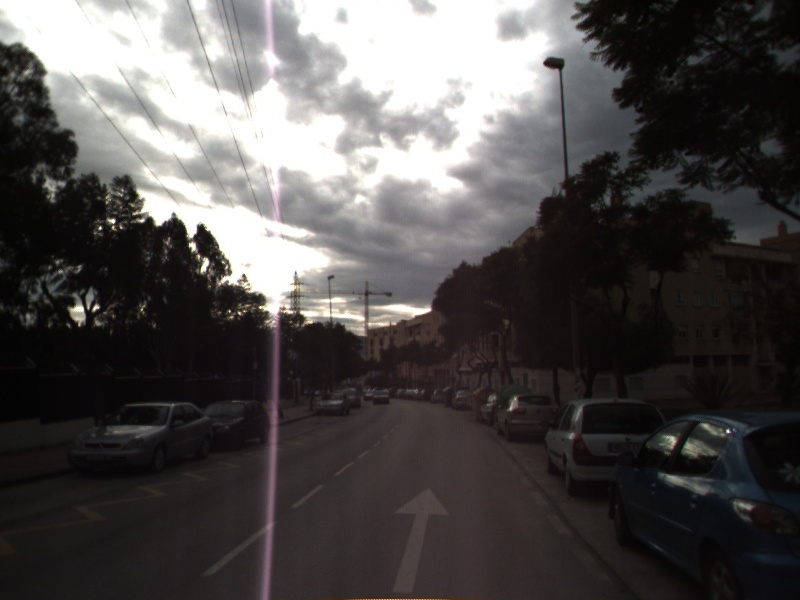STRAIGHT: (391, 484, 453, 595)
